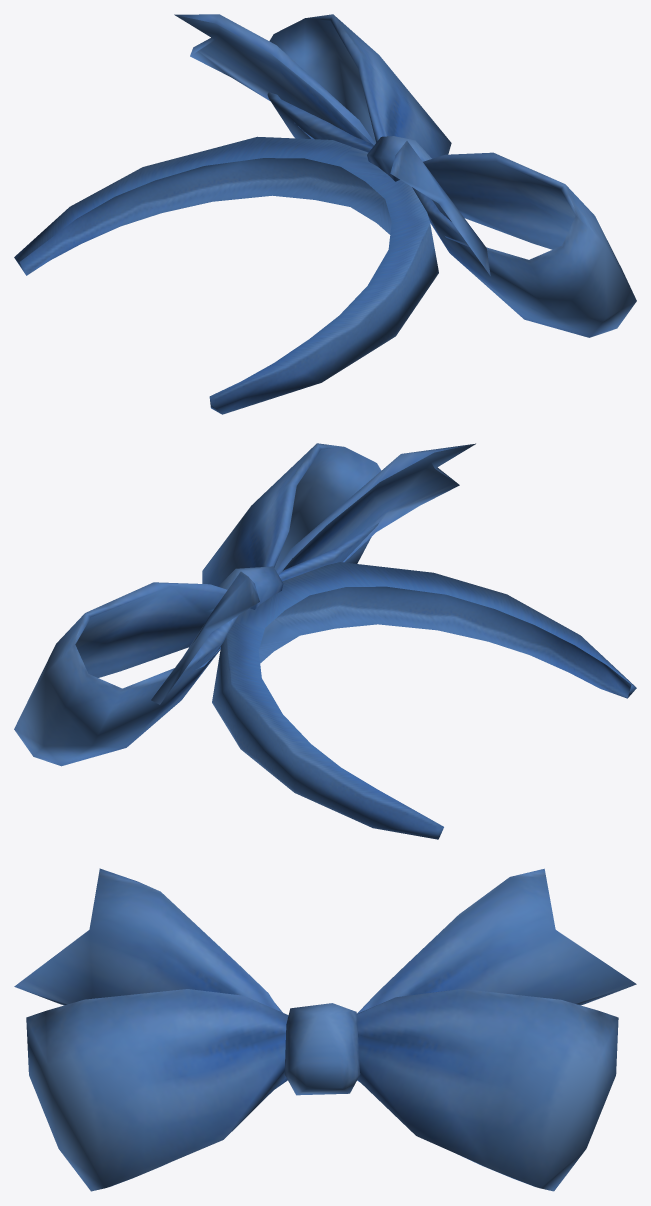
File: RibbonHeadband_Ground.fbx
3 renders of one model, top to bottom at view 1: azimuth 30°, elevation 25°; view 2: azimuth 150°, elevation 25°; view 3: azimuth 270°, elevation 25°, orthographic. The views are drawn at different scales.
Visible parts, largest first — view 1: 24_hdb rib_0.5_0_0; view 2: 24_hdb rib_0.5_0_0; view 3: 24_hdb rib_0.5_0_0.
Part boxes in pixels (box(x1,y1,x2,y2)): 24_hdb rib_0.5_0_0: box(14, 14, 636, 414); 24_hdb rib_0.5_0_0: box(14, 443, 636, 839); 24_hdb rib_0.5_0_0: box(14, 868, 636, 1191).
Size of the model in its own units: 0.1246 by 0.0619 by 0.1548.
